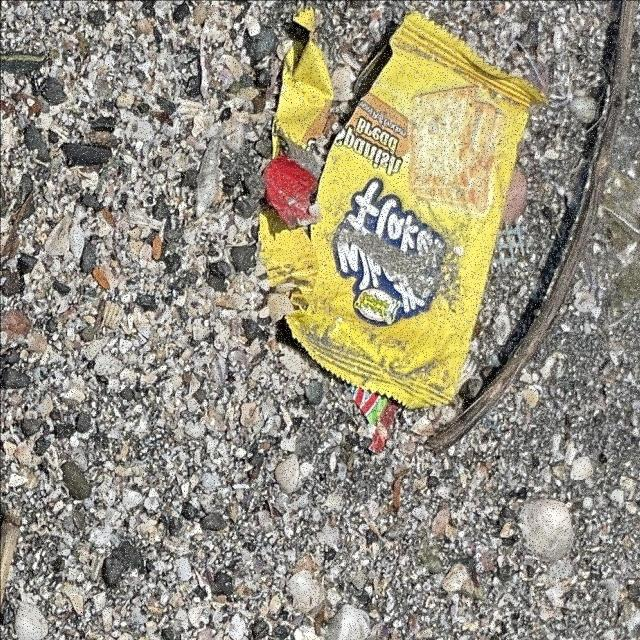plastic_waste: (241, 11, 546, 414)
